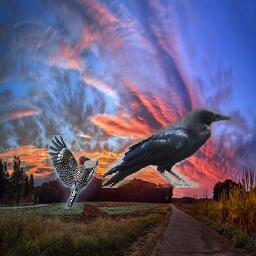Crow: (102, 108, 232, 189)
Woodpecker: (48, 135, 98, 209)
